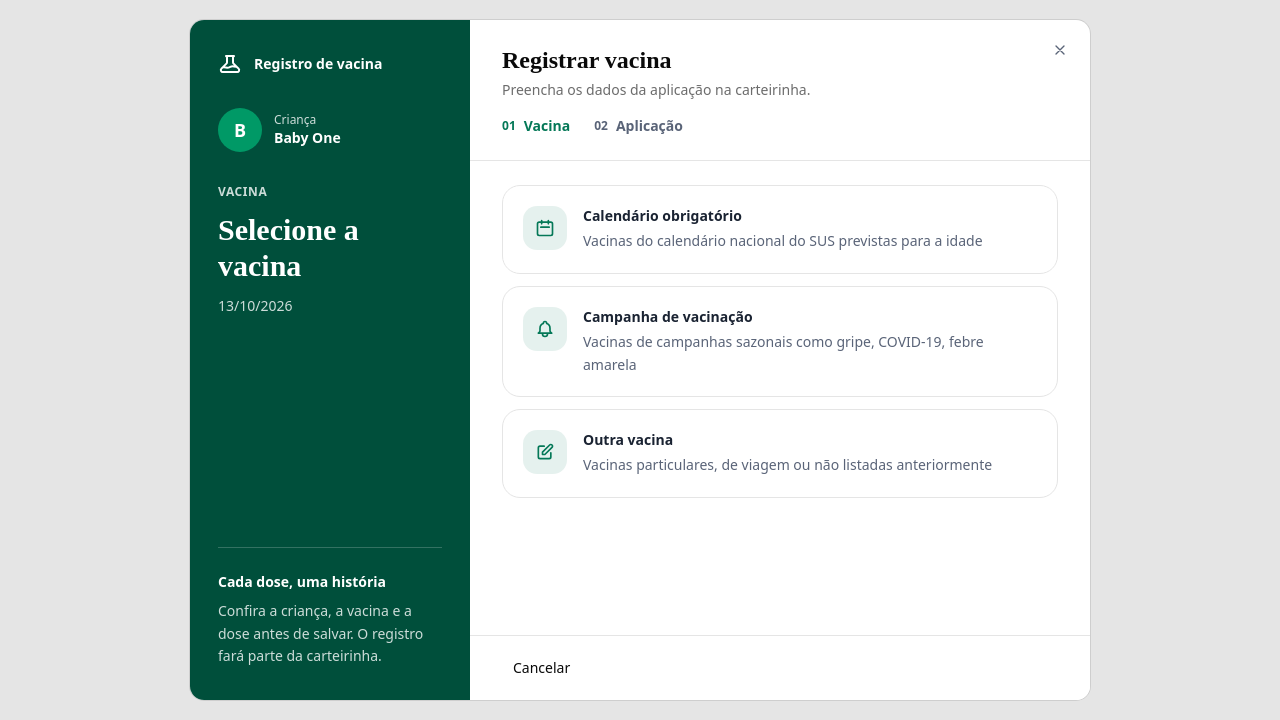
Test: RegisterVaccineDialog › disables "Continuar" on the selection step until a vaccine is chosen
Click the text "Calendário obrigatório" at [662, 216], box [583,206,742,225]
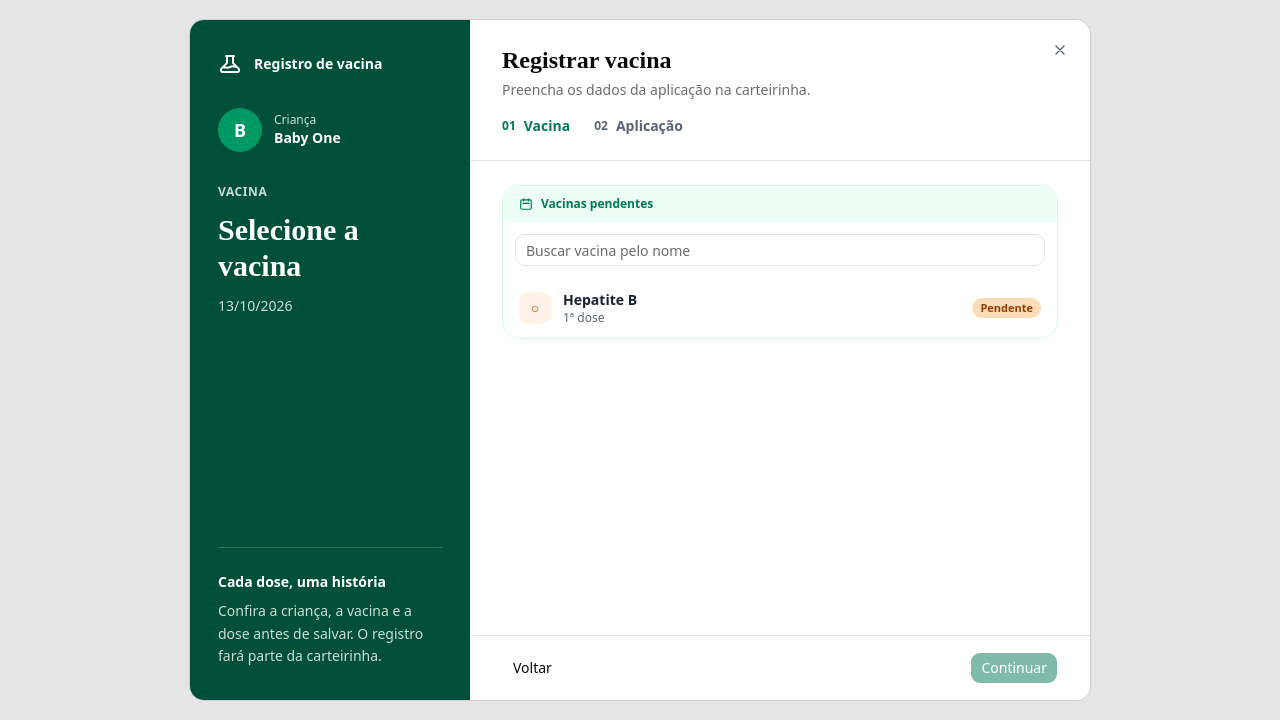
Check: the button "Continuar" is disabled, box [970,652,1058,684]
Click the text "Hepatite B" at [600, 300], box [563,290,637,309]
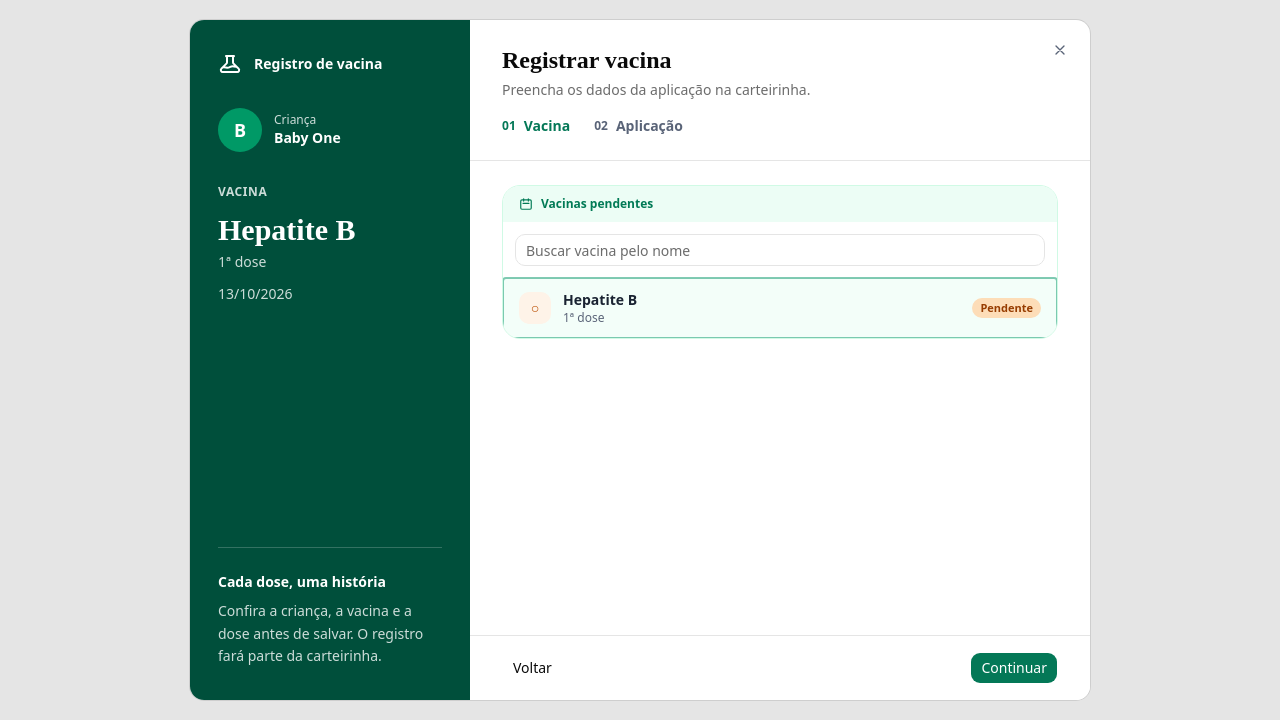
Check: the button "Continuar" is enabled, box [970,652,1058,684]
